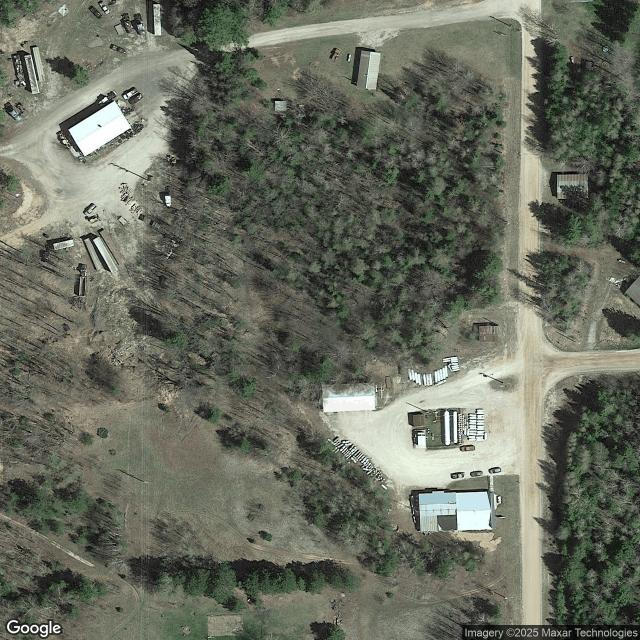Propane: (435, 379, 447, 386), (414, 371, 419, 385), (429, 373, 434, 387), (408, 368, 413, 381), (411, 369, 416, 382), (417, 373, 422, 386), (362, 458, 370, 466), (423, 373, 427, 387), (442, 366, 446, 380), (350, 456, 357, 464), (358, 455, 366, 462), (360, 457, 368, 464), (426, 373, 430, 386), (434, 370, 438, 383), (439, 368, 443, 381), (437, 369, 441, 382), (334, 441, 341, 448), (331, 446, 338, 453), (339, 445, 346, 452), (341, 447, 348, 454), (350, 446, 357, 453), (342, 449, 349, 456), (343, 450, 350, 457), (345, 451, 352, 458), (352, 455, 359, 462), (357, 453, 364, 460), (618, 259, 627, 264), (333, 437, 340, 443), (349, 444, 355, 451), (333, 440, 340, 446), (345, 454, 352, 460), (351, 449, 358, 455), (354, 450, 361, 456), (356, 452, 363, 458), (366, 462, 372, 469), (366, 469, 373, 475), (347, 54, 352, 62), (445, 365, 448, 377), (334, 448, 340, 454), (368, 466, 374, 472), (337, 443, 344, 448), (452, 368, 460, 372), (342, 440, 350, 444), (365, 461, 370, 467), (468, 422, 477, 425), (477, 425, 486, 428), (468, 425, 477, 428), (477, 409, 485, 412), (469, 414, 477, 417), (477, 417, 485, 420), (477, 420, 485, 423), (476, 436, 484, 439), (469, 433, 477, 436), (468, 438, 476, 441), (467, 428, 470, 436), (450, 356, 458, 359), (451, 358, 459, 361), (451, 360, 459, 363), (451, 365, 459, 368), (452, 367, 460, 370), (363, 468, 369, 472), (484, 433, 487, 440), (477, 433, 484, 436), (470, 430, 477, 433), (464, 428, 467, 435), (466, 422, 469, 429), (443, 360, 450, 363), (345, 443, 352, 446), (368, 465, 373, 469), (476, 412, 485, 414), (477, 415, 486, 417), (468, 420, 477, 422), (469, 417, 477, 419), (477, 423, 485, 425), (477, 428, 485, 430), (476, 439, 484, 441), (469, 428, 477, 430), (451, 363, 459, 365), (477, 431, 484, 433), (468, 436, 475, 438), (443, 358, 450, 360)
